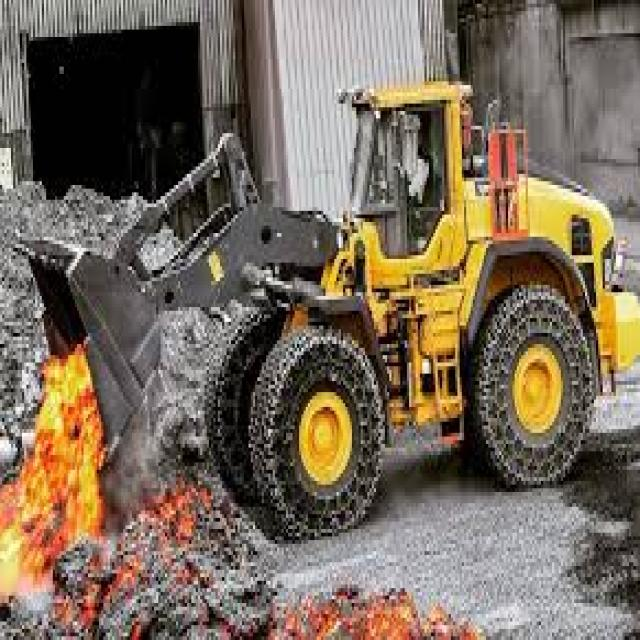buldozerpayloadergrader: (200, 79, 640, 535)
